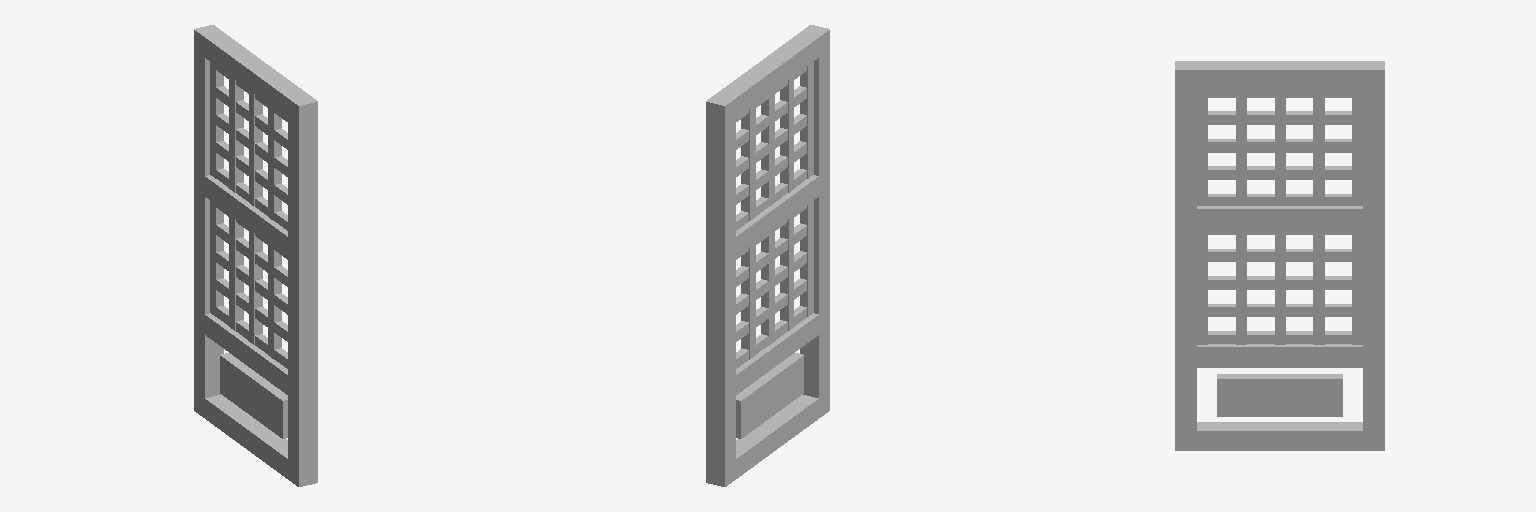
File: house_windows_wood.obj
3 views of the same model, side by side, from view 1: azimuth 30°, elevation 25°; view 2: azimuth 150°, elevation 25°; view 3: azimuth 270°, elevation 25° (orthographic).
Parts seen in each view (by area): view 1: Cube.136_Mesh, Cube.144_Mesh, Cube.142_Mesh, Cube.139_Mesh, Cube.128_Mesh, Cube.140_Mesh, Cube.145_Mesh, Cube.138_Mesh, Cube.143_Mesh; view 2: Cube.139_Mesh, Cube.144_Mesh, Cube.142_Mesh, Cube.136_Mesh, Cube.128_Mesh, Cube.140_Mesh, Cube.145_Mesh, Cube.138_Mesh, Cube.143_Mesh; view 3: Cube.142_Mesh, Cube.144_Mesh, Cube.136_Mesh, Cube.139_Mesh, Cube.128_Mesh, Cube.140_Mesh, Cube.145_Mesh, Cube.138_Mesh, Cube.143_Mesh.
Boxes of the visible parts, x1,y1,x2,y2 form: Cube.136_Mesh: [288, 119, 317, 466]; Cube.144_Mesh: [210, 62, 281, 358]; Cube.142_Mesh: [216, 66, 287, 368]; Cube.139_Mesh: [194, 50, 223, 397]; Cube.128_Mesh: [194, 25, 317, 125]; Cube.140_Mesh: [194, 391, 317, 486]; Cube.145_Mesh: [220, 353, 287, 438]; Cube.138_Mesh: [205, 313, 287, 394]; Cube.143_Mesh: [205, 175, 287, 256]; Cube.139_Mesh: [706, 119, 735, 466]; Cube.144_Mesh: [741, 62, 813, 359]; Cube.142_Mesh: [736, 67, 806, 368]; Cube.136_Mesh: [800, 50, 829, 397]; Cube.128_Mesh: [706, 25, 829, 125]; Cube.140_Mesh: [706, 391, 829, 486]; Cube.145_Mesh: [736, 353, 803, 438]; Cube.138_Mesh: [736, 313, 818, 394]; Cube.143_Mesh: [736, 175, 818, 256]; Cube.142_Mesh: [1208, 90, 1351, 343]; Cube.144_Mesh: [1197, 90, 1362, 344]; Cube.136_Mesh: [1175, 90, 1196, 430]; Cube.139_Mesh: [1363, 90, 1384, 430]; Cube.128_Mesh: [1175, 61, 1384, 89]; Cube.140_Mesh: [1175, 422, 1384, 450]; Cube.145_Mesh: [1217, 374, 1342, 416]; Cube.138_Mesh: [1197, 344, 1362, 367]; Cube.143_Mesh: [1197, 206, 1362, 228].
Size of the model in its own units: 0.16 by 3 by 1.5.